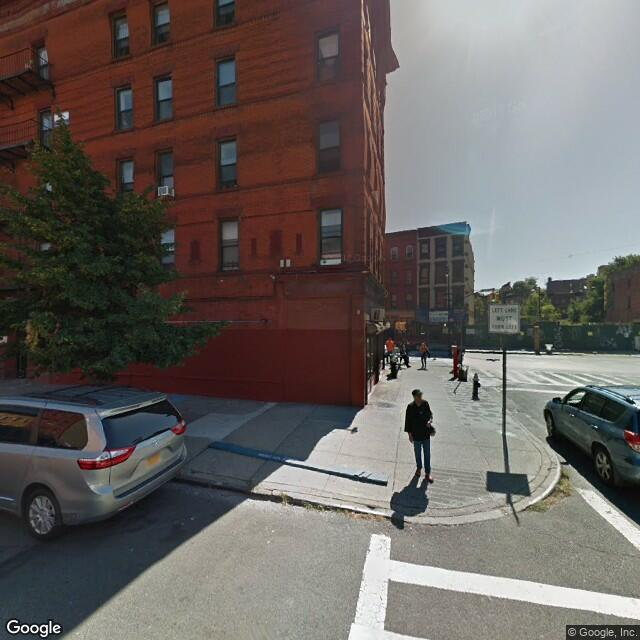litter: (206, 437, 393, 489), (528, 462, 572, 510)
